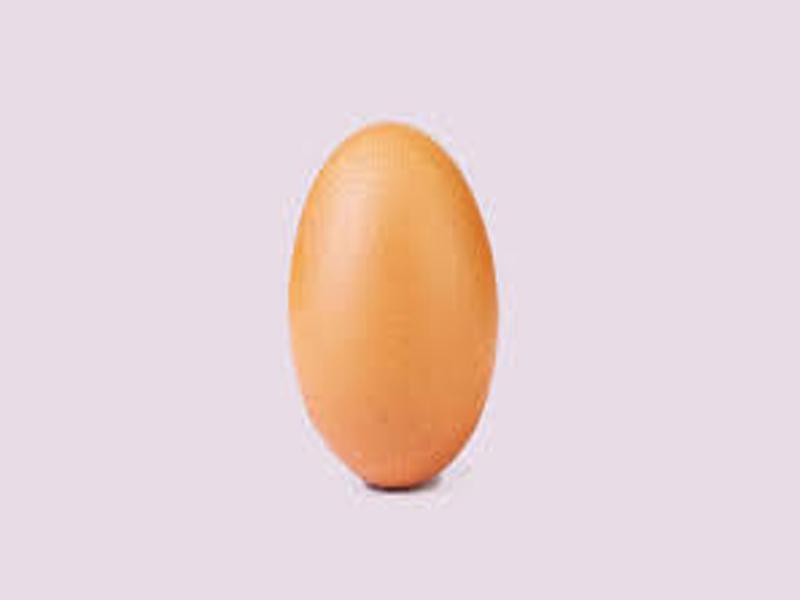Eggs: (291, 116, 496, 491)
